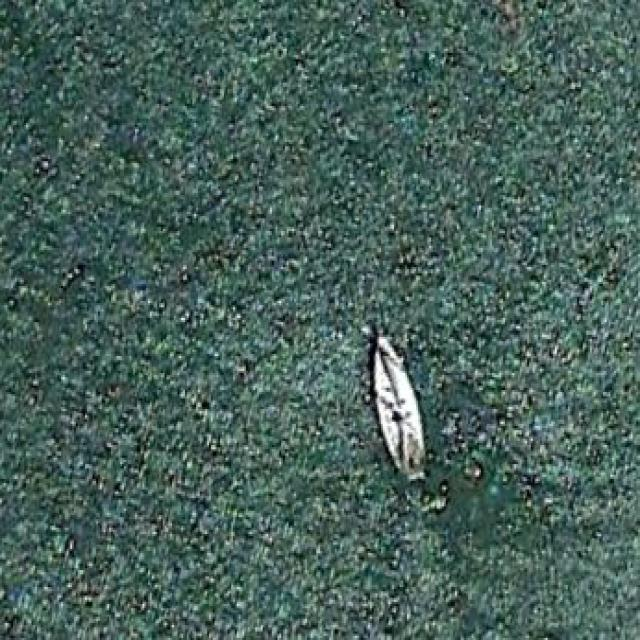boat: (366, 333, 429, 483)
